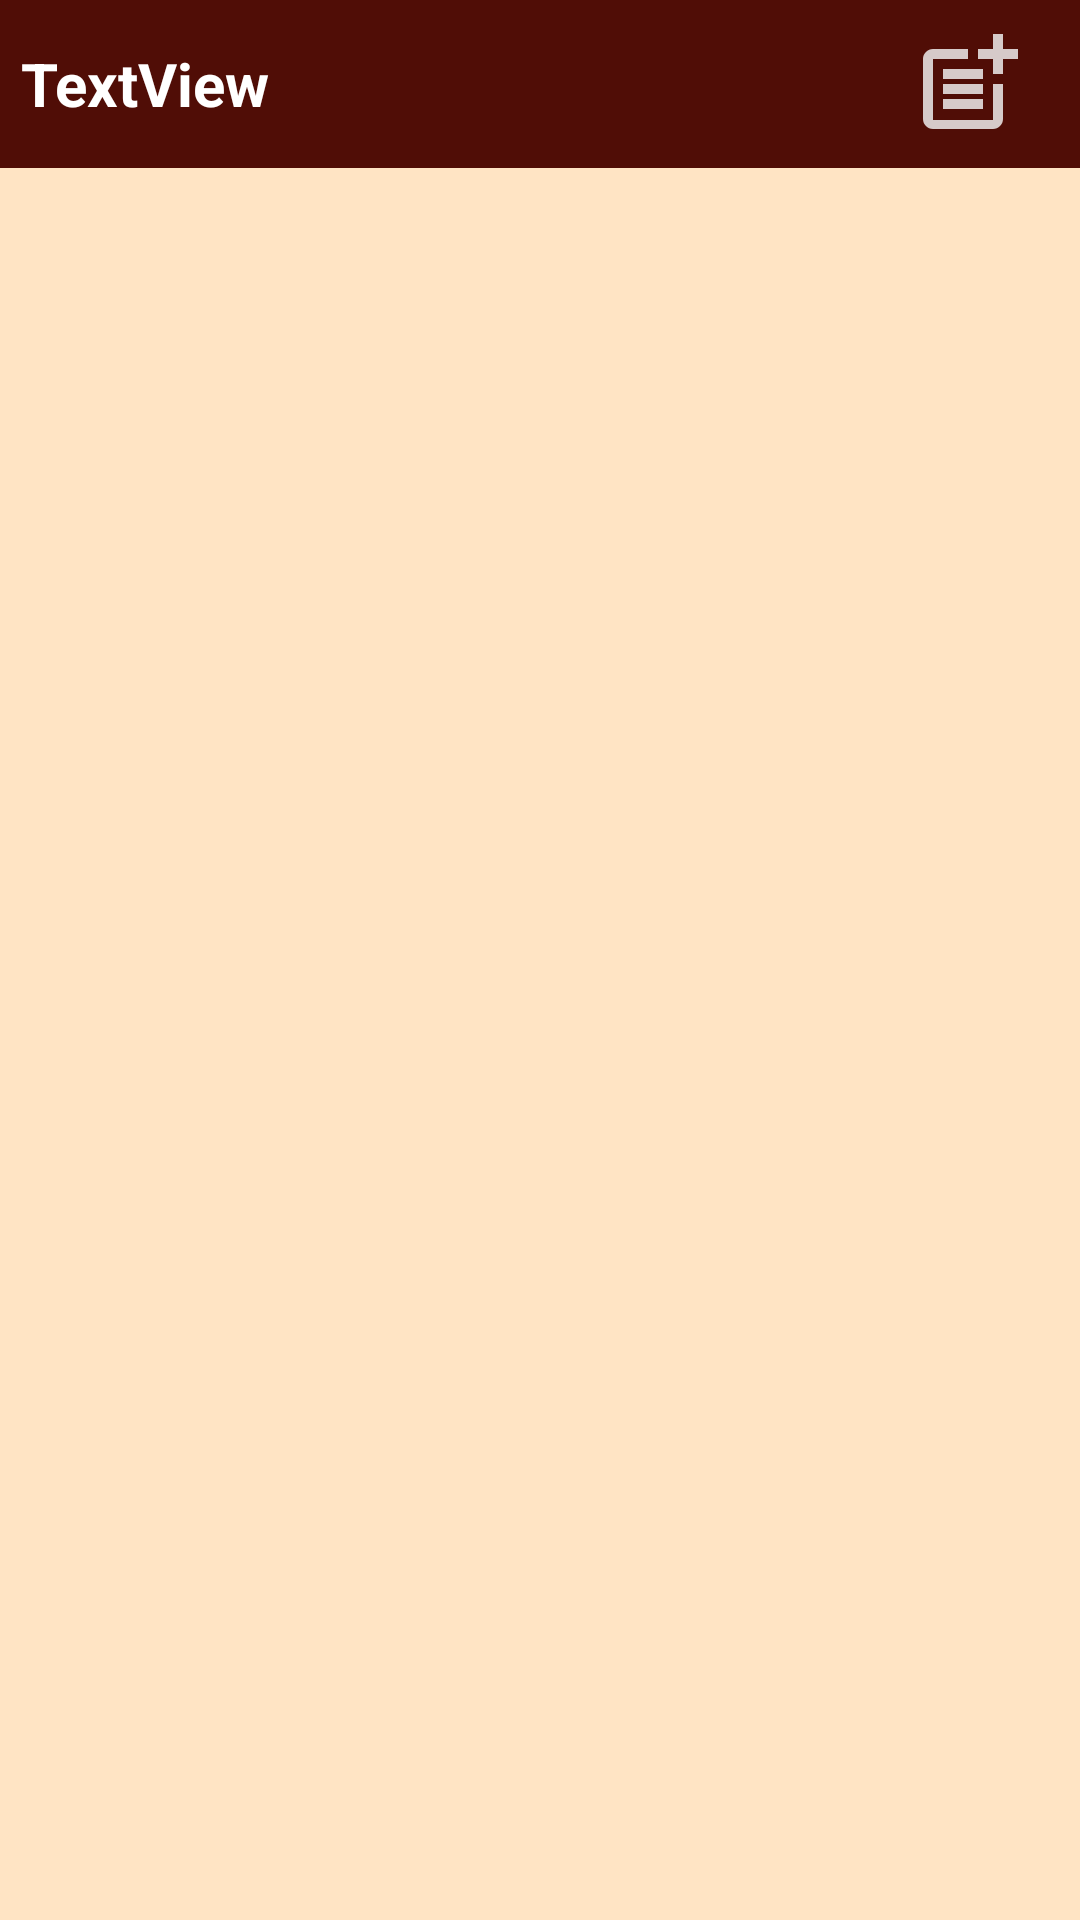

Where icons sit on this 1080px x 1920px app screen, as (x1, y1, x2, y2):
post: (923, 34, 1018, 129)
